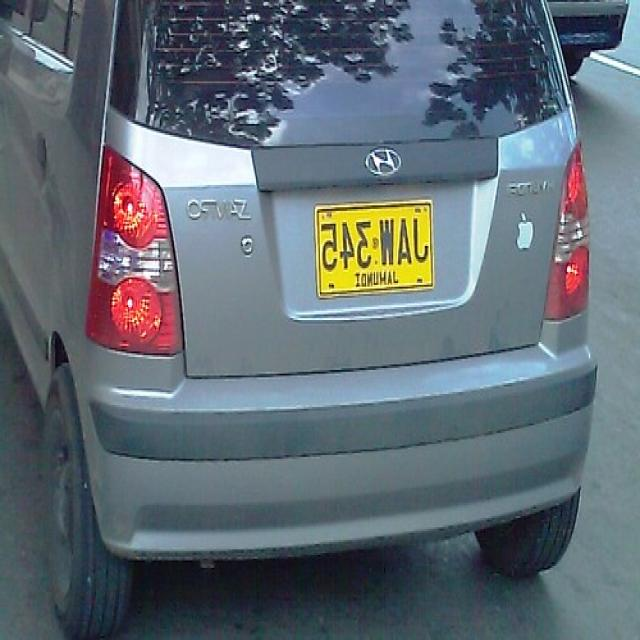placas: (319, 209, 431, 272)
